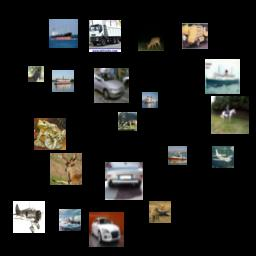airplane: (13, 201, 45, 233), (212, 146, 234, 168)
automobile: (105, 162, 143, 200), (94, 68, 129, 103), (89, 212, 124, 247)
deer: (50, 153, 82, 185), (138, 25, 164, 51), (149, 201, 171, 223), (118, 112, 137, 131)
frog: (34, 118, 66, 150)
ship: (205, 59, 240, 94), (49, 19, 78, 48), (52, 70, 74, 92), (59, 209, 81, 231), (168, 146, 187, 165), (142, 92, 158, 108)
truck: (89, 20, 121, 52), (182, 23, 208, 49)
